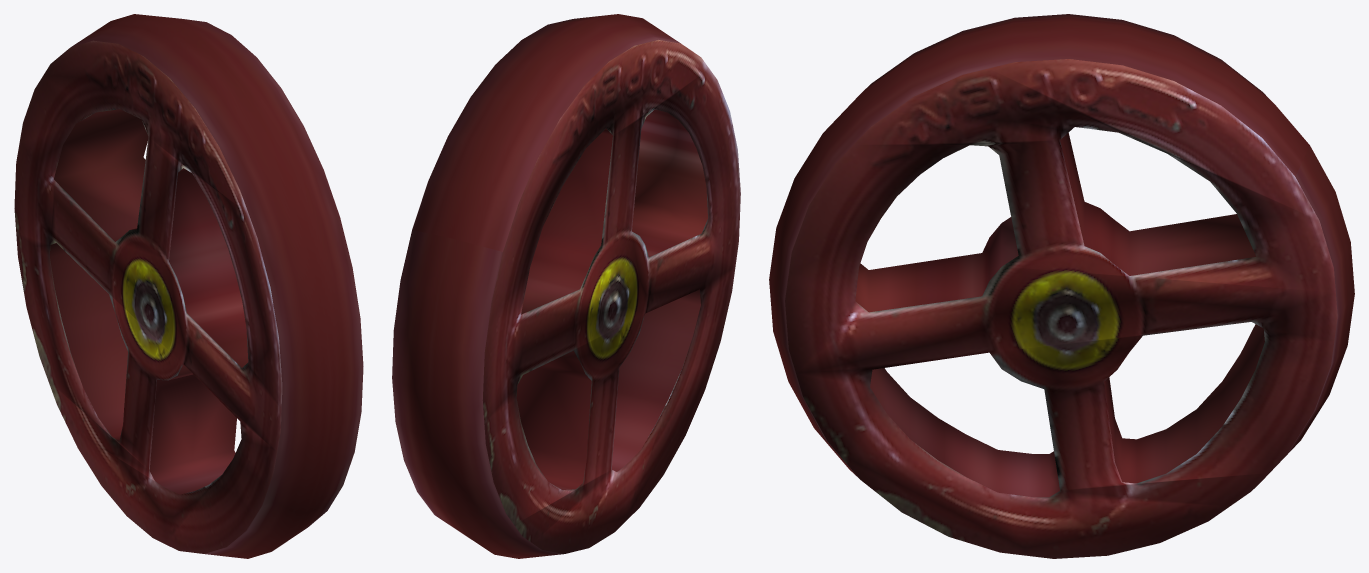
File: valve.glb
The picture shows the model from 3 angles, left to right: view 1: azimuth 30°, elevation 25°; view 2: azimuth 150°, elevation 25°; view 3: azimuth 270°, elevation 25°; orthographic projection. The views are drawn at different scales.
Parts seen in each view (by area): view 1: Cylinder; view 2: Cylinder; view 3: Cylinder.
Boxes of the visible parts, x1,y1,x2,y2 form: Cylinder: [14, 14, 363, 558]; Cylinder: [392, 14, 740, 558]; Cylinder: [769, 14, 1354, 558].
Bounding box in the file's own units: 0.1582 × 0.8391 × 0.839.
1 material, 1 textured.
